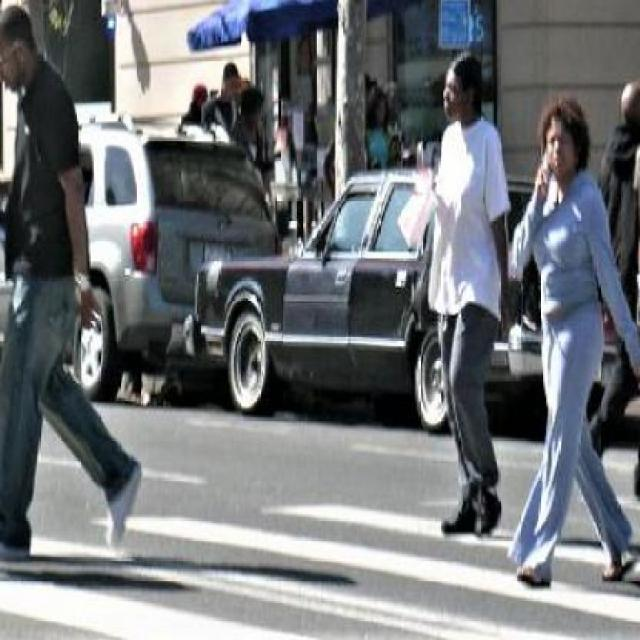Person: (0, 0, 141, 572), (494, 92, 638, 610), (419, 43, 504, 534)
